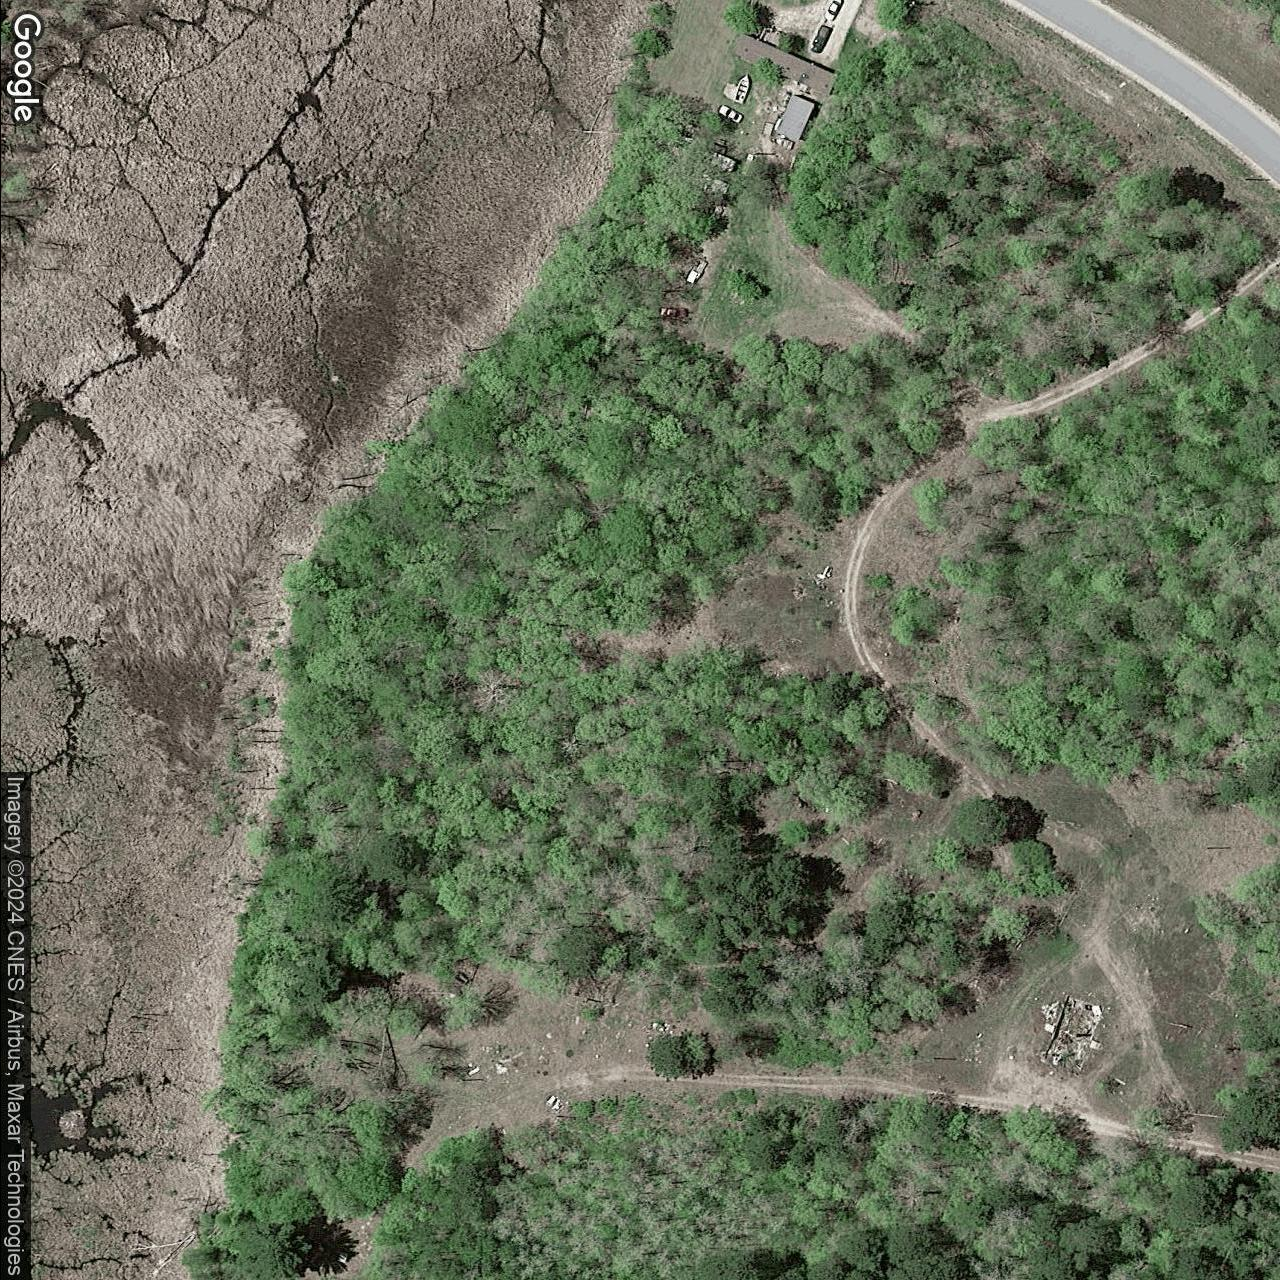Garage: (772, 91, 815, 144)
Trailer: (730, 33, 838, 98)
